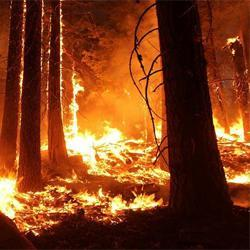fire: (71, 132, 123, 154), (109, 194, 159, 209), (217, 117, 245, 142), (1, 178, 17, 213)
